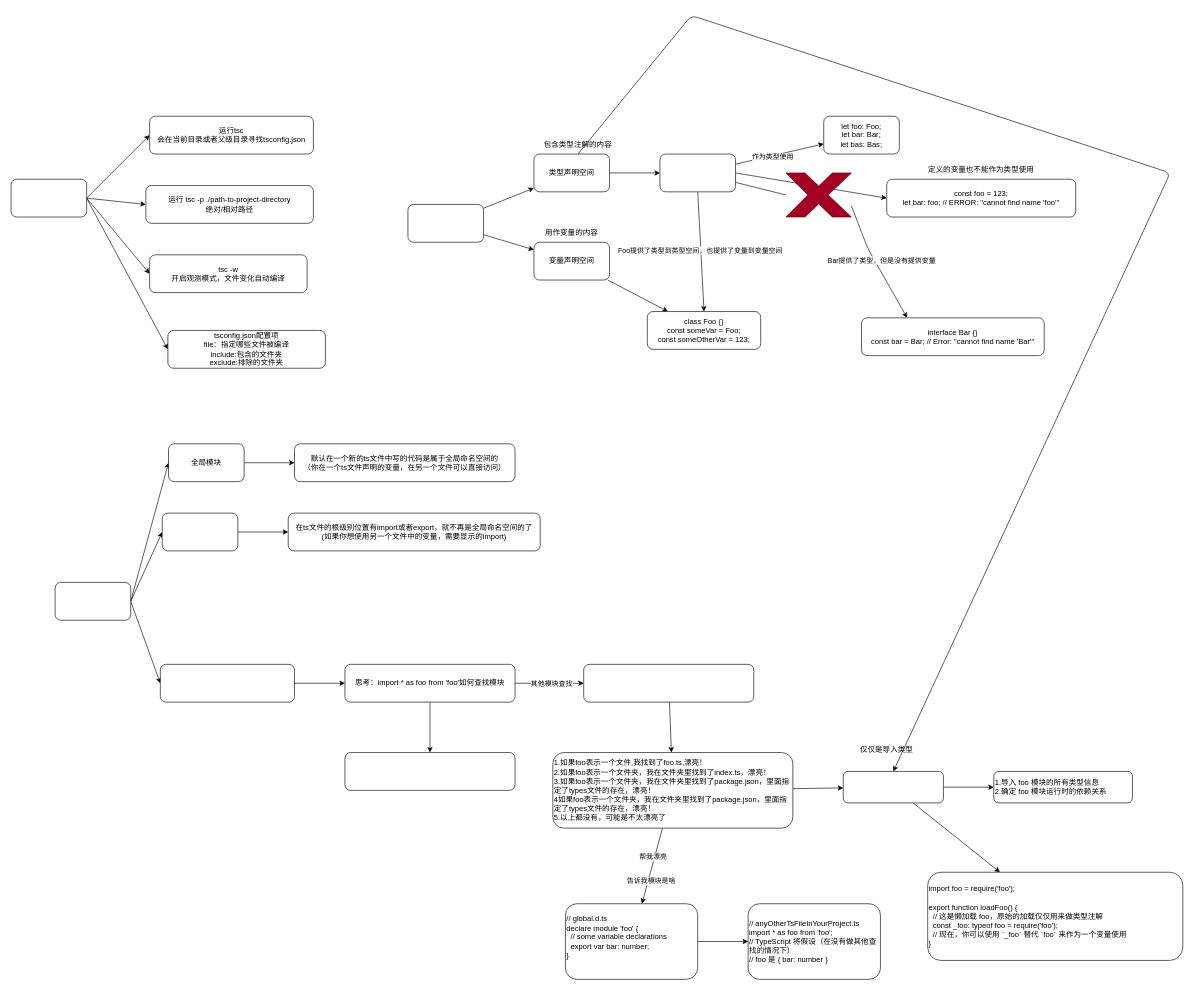
The diagram is 1194 pixels wide and 990 high, and some of its shapes have lost their labels. The shapes that lost their labels are listed below. From the top down, each one's centre as x and y in pixels, then its label:
At point 697,172: "class Foo {} interface Bar {} type Bas = {};".
At point 48,198: "手动编译ts".
At point 445,223: "声明空间".
At point 200,532: "文件模块".
At point 92,601: "模块".
At point 227,683: "建议配置：module: commonjs".
At point 668,683: "我是.ts、.d.ts、.js 我如何查找一个模块foo".
At point 429,771: "./node_modules/foo ../node_modules/foo ../../node_modules/foo 直到系统根目录".
At point 893,787: "import foo = require('foo');".
